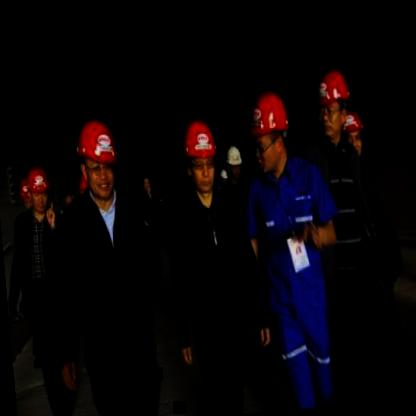helmet: (243, 84, 298, 178), (77, 116, 124, 204), (179, 112, 223, 203), (310, 62, 354, 144), (22, 164, 52, 214), (340, 108, 368, 160), (224, 140, 248, 182)
